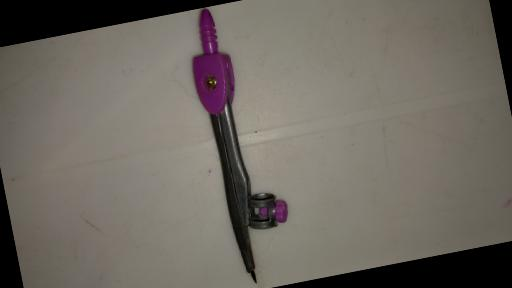Compass: (178, 2, 300, 288)
